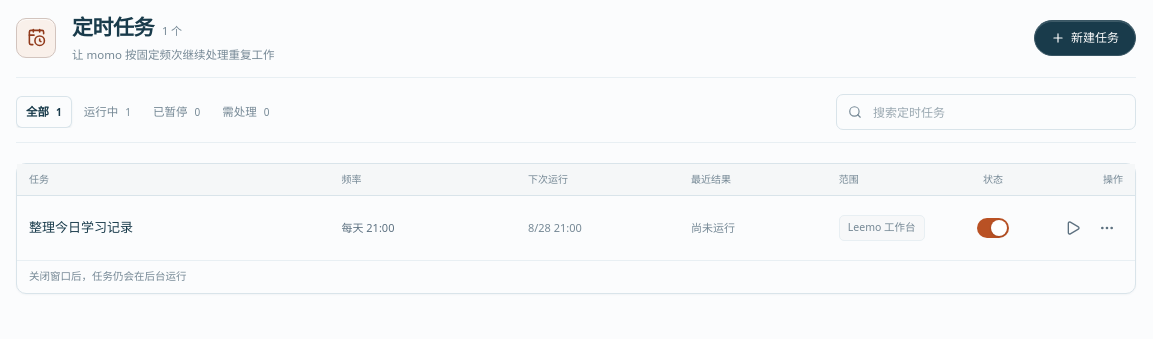
Test case: ScheduledTasksPage › dismisses a task row menu when clicking elsewhere
This screenshot has width=1153, height=339.
Click the button named "更多 整理今日学习记录 操作" at (1107, 228), box x1=1091 y1=212 x2=1123 y2=244
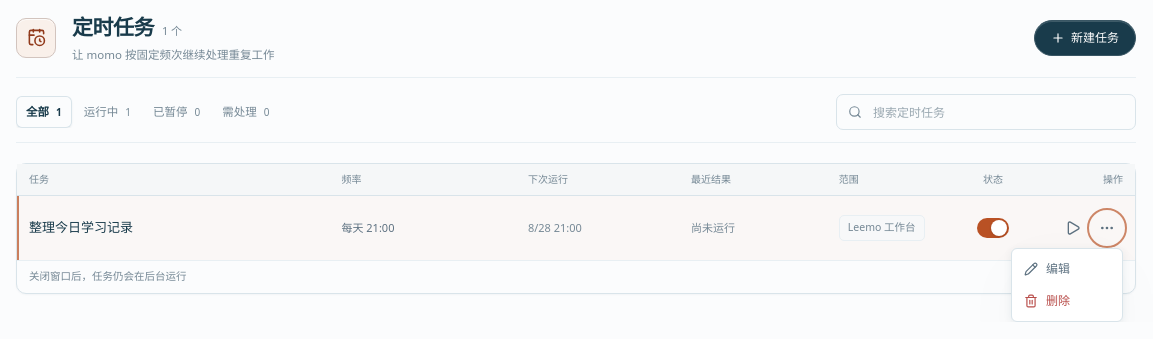
Expected: the button with aria-label "编辑 整理今日学习记录" is shown, x1=1016 y1=253 x2=1118 y2=285
